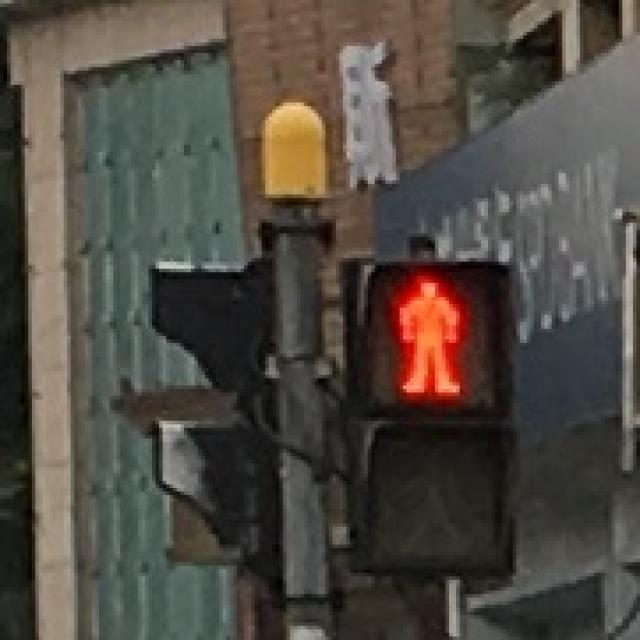red-crossing: (366, 262, 490, 411)
